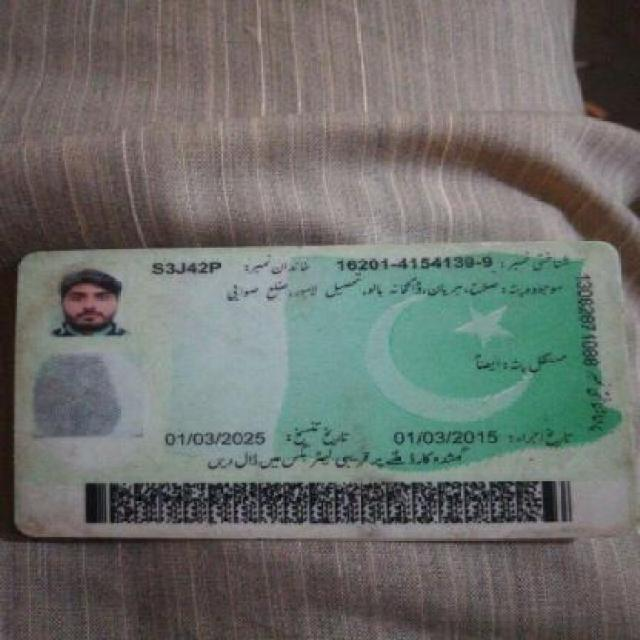Back: (14, 243, 629, 551)
